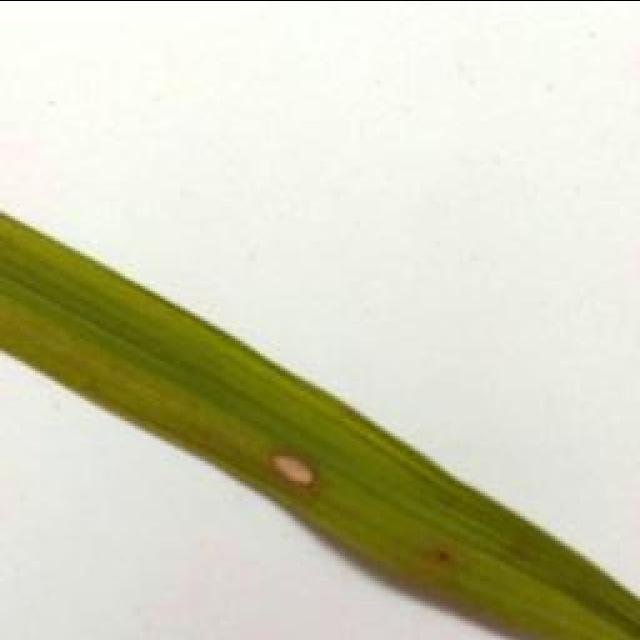Unhealthy: (269, 447, 318, 488), (435, 550, 452, 563)
